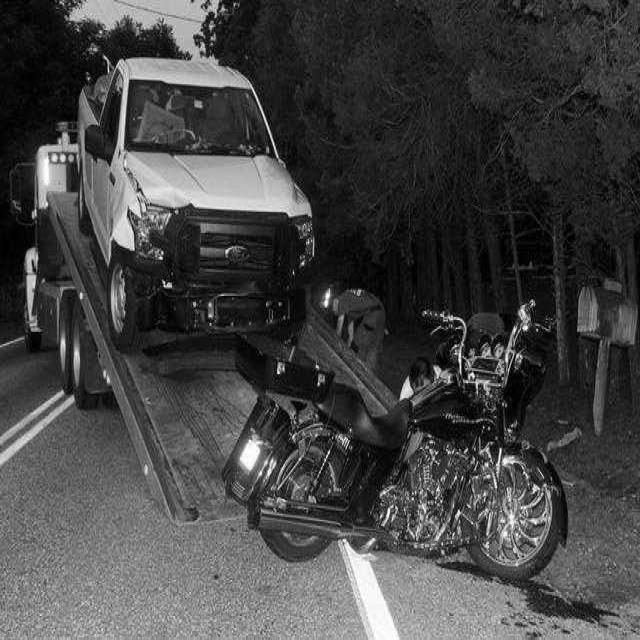Car: (80, 59, 315, 348)
Motorcycle: (223, 302, 568, 580)
Truck: (10, 122, 110, 409)
